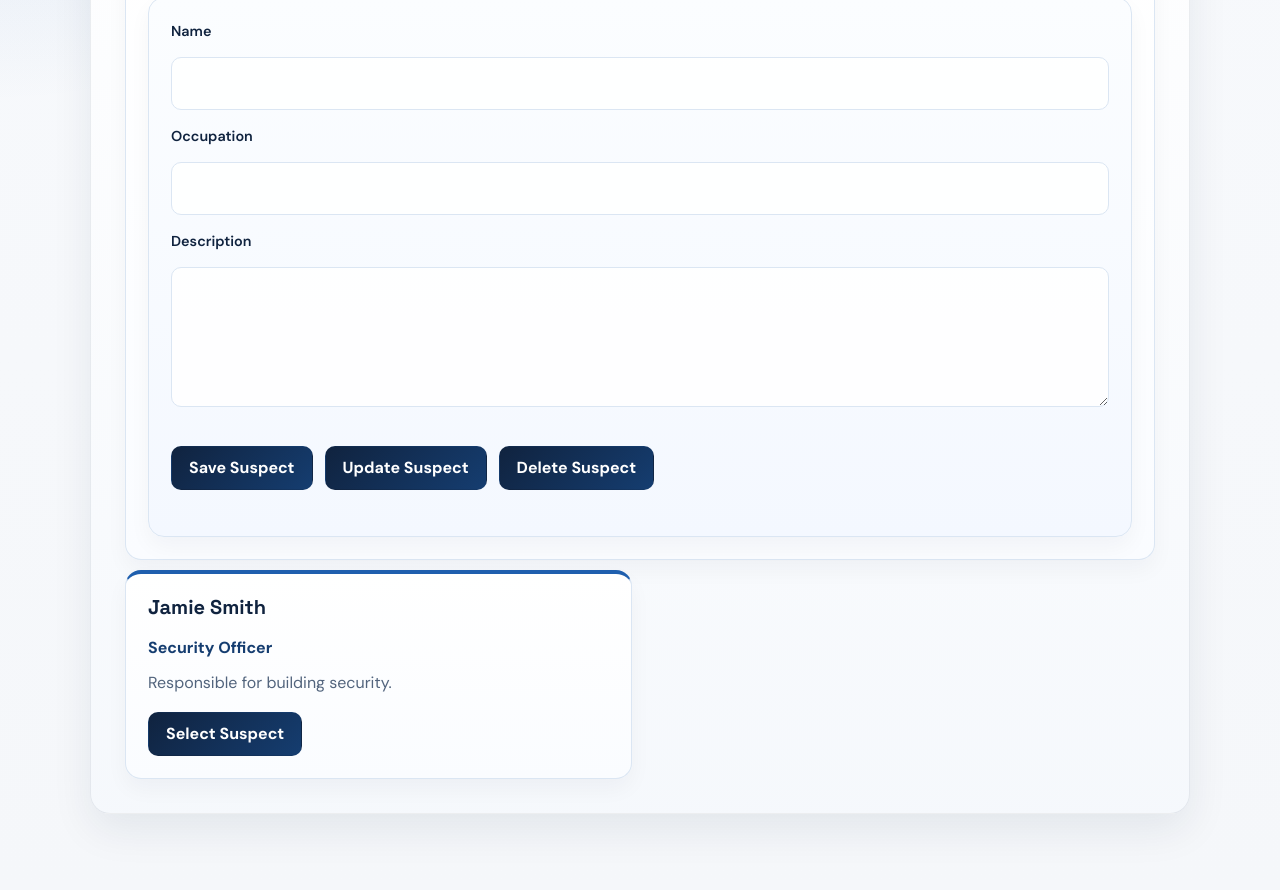
it: Suspects page › loads suspect cards and shows a selected suspect
(page scrolled)
Expected: the heading "Jamie Smith" is shown, 148,594 -> 266,620
Click the button "Select Suspect". click: x=225, y=734
box: 148,712 -> 302,756
(page scrolled)
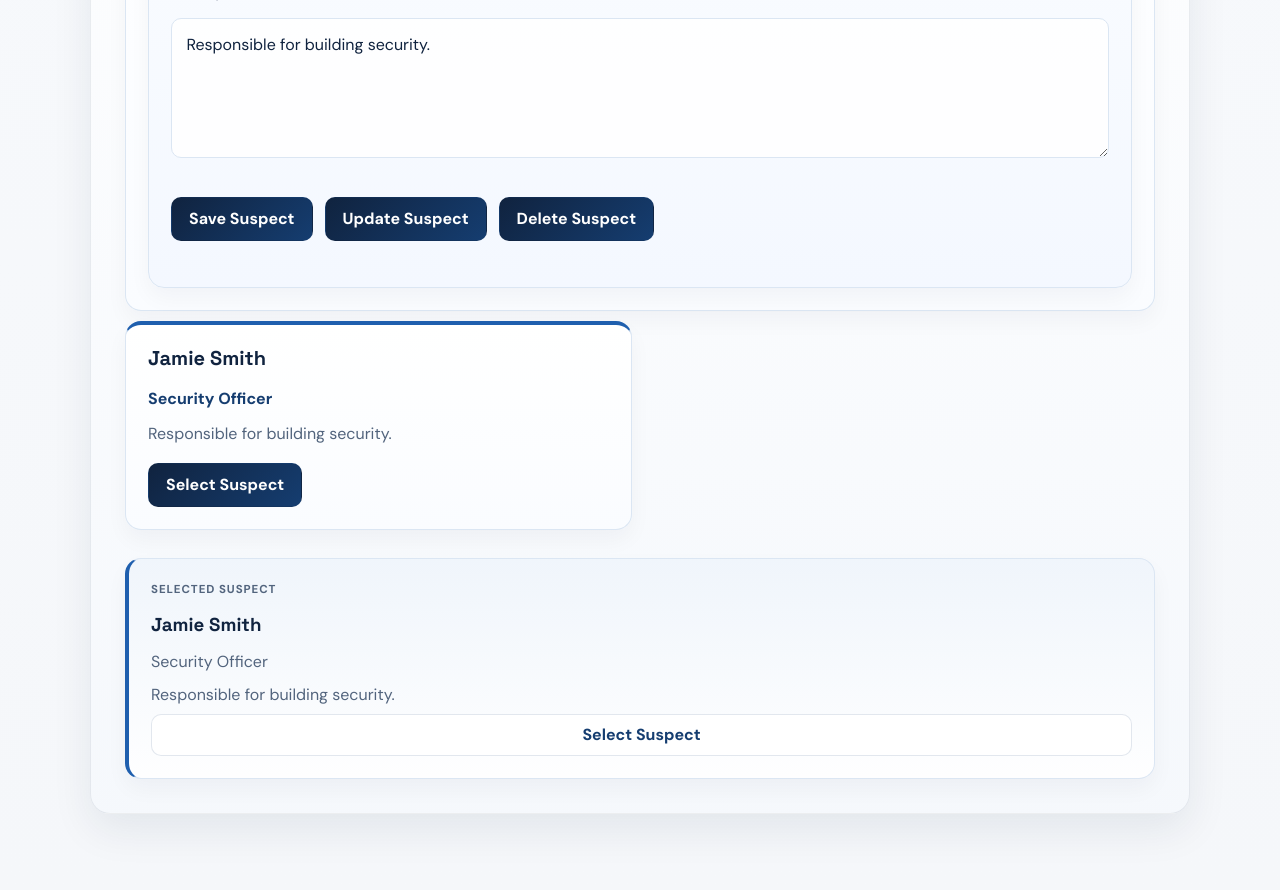
Now the text "Selected suspect" is shown, box 151,582 -> 276,597
